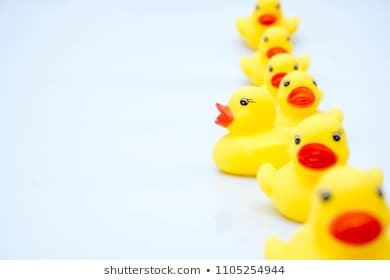duck: (190, 85, 291, 188)
